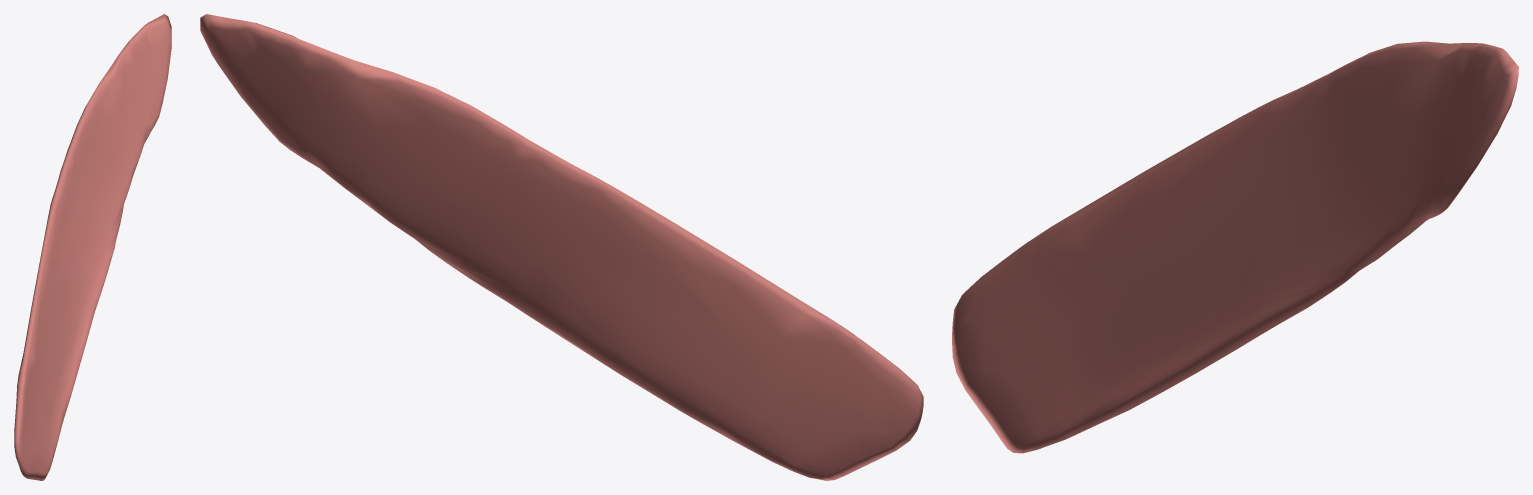
The picture shows the model from 3 angles, left to right: view 1: azimuth 30°, elevation 25°; view 2: azimuth 150°, elevation 25°; view 3: azimuth 270°, elevation 25°; orthographic projection. The views are drawn at different scales.
Visible parts, largest first — view 1: ZA_00ed331d3d5da7db; view 2: ZA_00ed331d3d5da7db; view 3: ZA_00ed331d3d5da7db.
Boxes of the visible parts, x1=… form: ZA_00ed331d3d5da7db: x1=14, y1=14, x2=171, y2=480; ZA_00ed331d3d5da7db: x1=200, y1=14, x2=923, y2=480; ZA_00ed331d3d5da7db: x1=952, y1=41, x2=1518, y2=453.
Bounding box in the file's own units: 0.0211 × 0.0214 × 0.0176.
